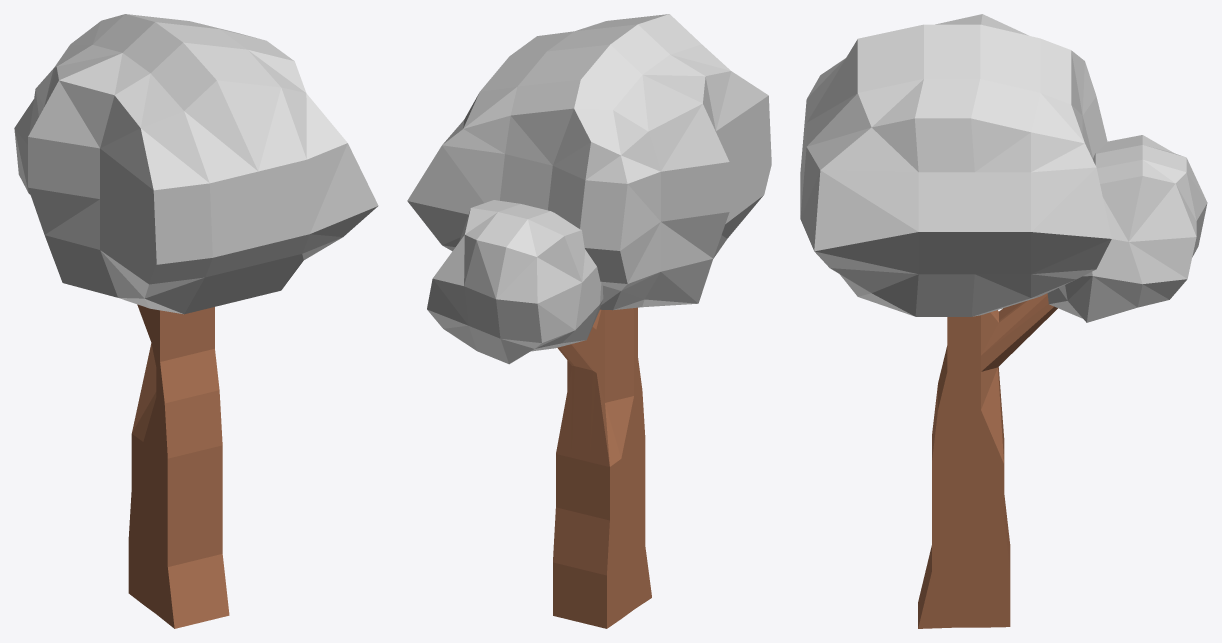
The model's file is first drawing tree.dae.
3 views of the same model, side by side, from view 1: azimuth 30°, elevation 25°; view 2: azimuth 150°, elevation 25°; view 3: azimuth 270°, elevation 25° (orthographic).
Visible parts, largest first — view 1: leaf small; view 2: leaf small; view 3: leaf small.
Part boxes in pixels (x1=…): leaf small: x1=14, y1=14, x2=378, y2=628; leaf small: x1=407, y1=14, x2=771, y2=628; leaf small: x1=800, y1=14, x2=1207, y2=628.
Size of the model in its own units: 2.83 by 3.62 by 5.72.
2 materials, 1 textured.
